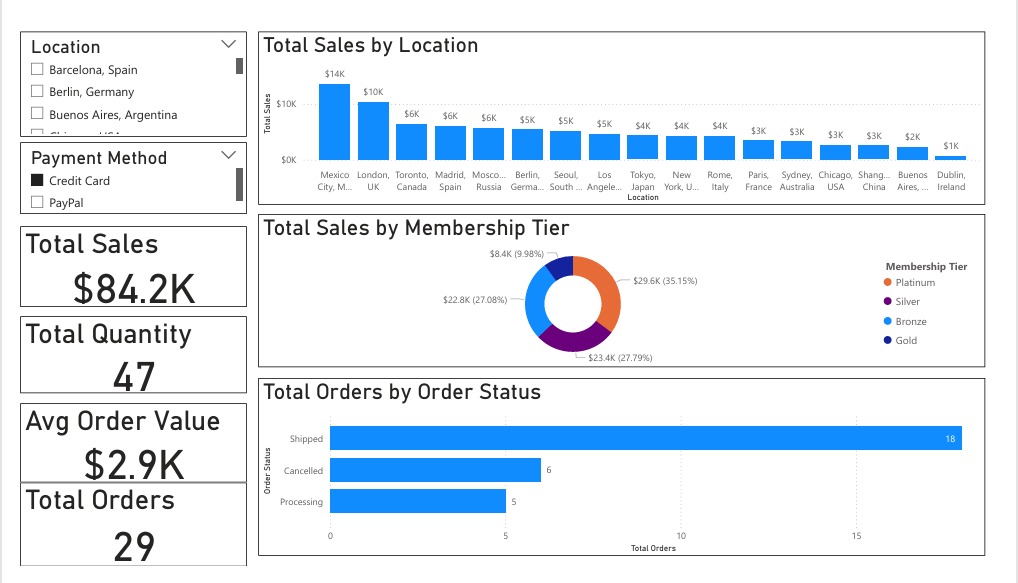

The page's visual inventory and layout, read from the dashboard file:
{"tool":"powerbi","page":{"name":"Sales Overview","canvas":[1280,720],"ordinal":0},"visuals":[{"type":"card","title":"Total Sales","fields":{"Values":["Orders.Total Sales"]},"box":[0,275.5,297.3,105.8],"z":0},{"type":"card","title":"Total Orders","fields":{"Values":["Orders.Total Orders"]},"box":[0,611.4,297.3,109.2],"z":1000},{"type":"card","title":"Total Quantity","fields":{"Values":["Orders.Total Quantity"]},"box":[0,393.1,297.3,100.8],"z":2000},{"type":"card","title":"Avg Order Value","fields":{"Values":["Orders.Average Order Value"]},"box":[0,507.3,297.3,104.1],"z":3000},{"type":"clusteredColumnChart","fields":{"Category":["Customers.Location"],"Y":["Orders.Total Sales"]},"box":[312.4,20.2,952.4,226.8],"z":4000},{"type":"donutChart","fields":{"Category":["Customers. Membership Tier "],"Y":["Orders.Total Sales"]},"box":[312.4,258.7,952.4,201.6],"z":4001},{"type":"barChart","fields":{"Category":["Orders.Order Status"],"Y":["Orders.Total Orders"]},"box":[312.4,473.7,952.4,233.5],"z":4002},{"type":"slicer","fields":{"Values":["Customers.Location"]},"box":[0,20.2,297.3,137.7],"z":4003},{"type":"slicer","fields":{"Values":["Orders.Payment Method"]},"box":[0,164.6,297.3,94.1],"z":4004}]}

Visuals, with their boxes in screenshot pixels (x1, y1, x2, y2), scaled from the page's 1280x720 canvas onto the 1018x583 screenshot:
"Total Sales" card: region(0, 223, 236, 309)
"Total Orders" card: region(0, 495, 236, 582)
"Total Quantity" card: region(0, 318, 236, 400)
"Avg Order Value" card: region(0, 411, 236, 495)
clusteredColumnChart - Customers.Location x Orders.Total Sales: region(248, 16, 1006, 200)
donutChart - Customers. Membership Tier  x Orders.Total Sales: region(248, 209, 1006, 373)
barChart - Orders.Order Status x Orders.Total Orders: region(248, 384, 1006, 573)
slicer - Customers.Location: region(0, 16, 236, 128)
slicer - Orders.Payment Method: region(0, 133, 236, 209)
